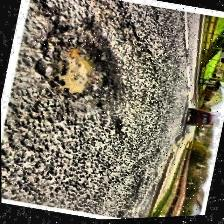pothole: (36, 16, 126, 108)
